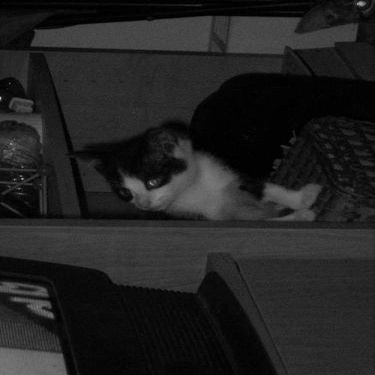cat: (74, 119, 320, 223)
